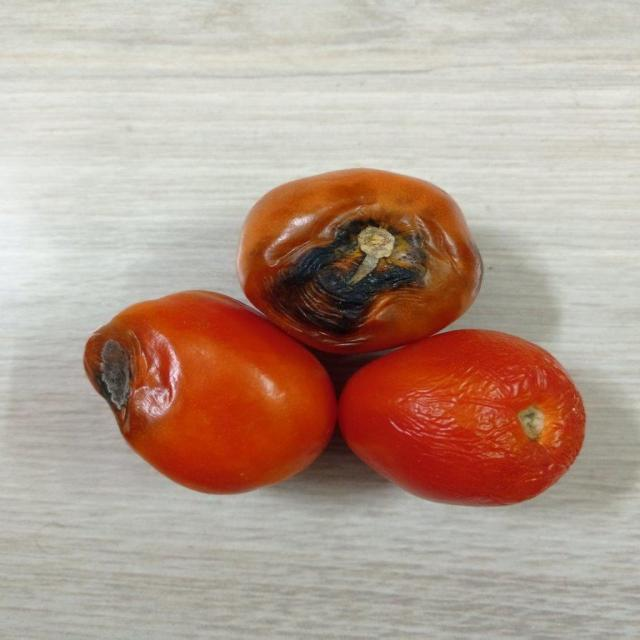Rotten: (82, 291, 340, 496), (238, 165, 485, 352)
overripe: (338, 330, 585, 504)
